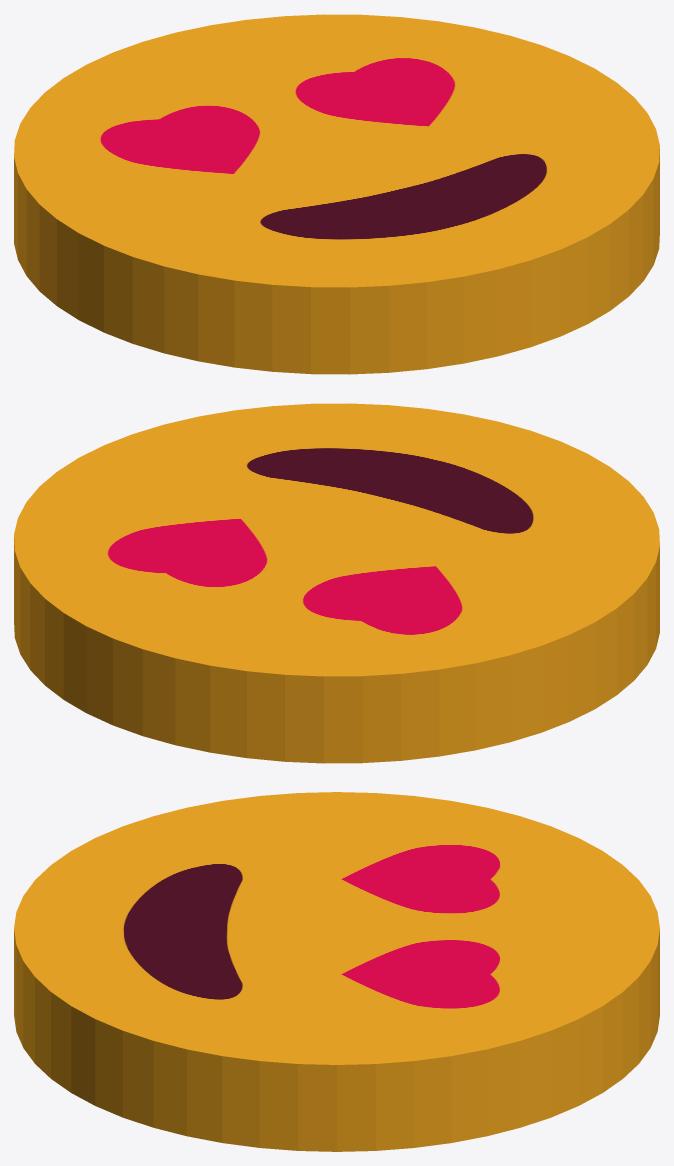
The model's file is Smiley Mold.fbx.
3 views of the same model, one above another, from view 1: azimuth 30°, elevation 25°; view 2: azimuth 150°, elevation 25°; view 3: azimuth 270°, elevation 25° (orthographic).
Parts seen in each view (by area): view 1: Smiley mold; view 2: Smiley mold; view 3: Smiley mold.
Boxes of the visible parts, x1,y1,x2,y2 form: Smiley mold: (14,14,659,374); Smiley mold: (14,403,659,763); Smiley mold: (14,792,659,1151).
Size of the model in its own units: 1974 by 293 by 1974.
1 material, 1 textured.
